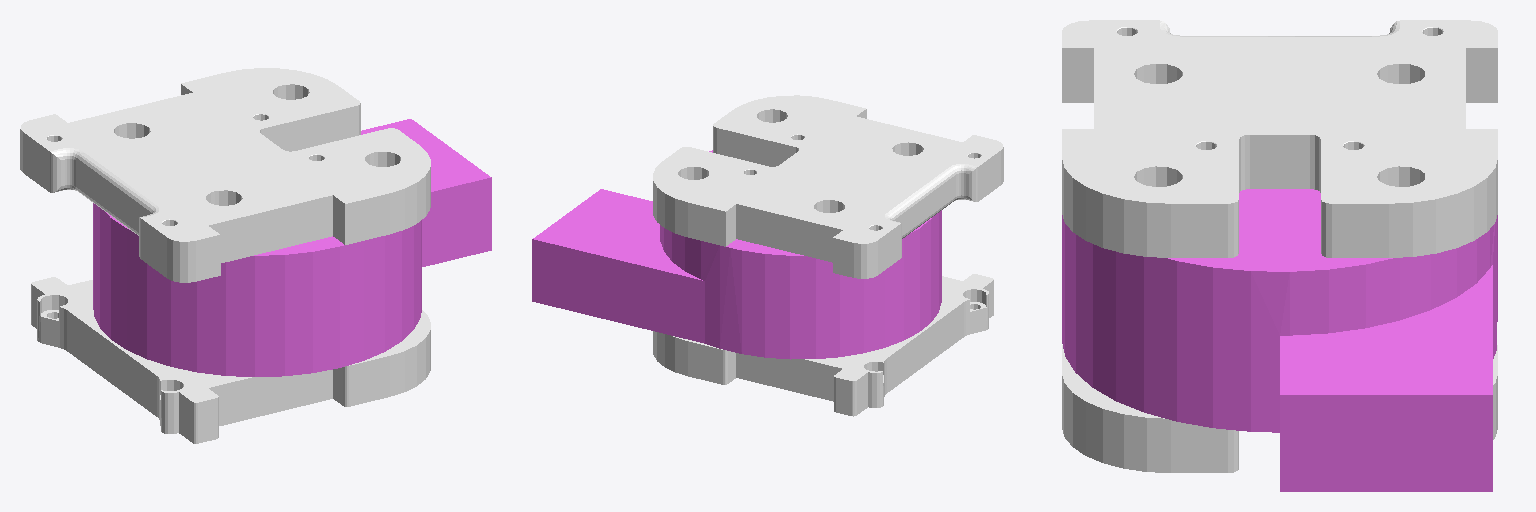
The robot description file, URDF, robot "FT_Electric_left":
<?xml version="1.0" ?>
<robot
    name="FT_Electric_left">
  <link
      name="FT_bottom_plate_left">
    <inertial>
      <origin
          xyz="0.034783 -1.3323E-15 0.0055211"
          rpy="0 0 0" />
      <mass
          value="0.051726" />
      <inertia
          ixx="2.5588E-05"
          ixy="2.7505E-21"
          ixz="2.4673E-08"
          iyy="2.3459E-05"
          iyz="4.1597E-22"
          izz="4.7997E-05" />
    </inertial>
    <visual>
      <origin
          xyz="0 0 0"
          rpy="0 0 0" />
      <geometry>
        <mesh
            filename="package://birl_baxter_description/urdf/ft/meshes/FT_bottom_plate.STL" />
      </geometry>
      <material
          name="">
        <color
            rgba="1 1 1 1" />
      </material>
    </visual>
    <collision>
      <origin
          xyz="0 0 0"
          rpy="0 0 0" />
      <geometry>
        <mesh
            filename="package://birl_baxter_description/urdf/ft/meshes/FT_bottom_plate.STL" />
      </geometry>
    </collision>
  </link>
  <link
      name="FT_left">
    <inertial>
      <origin
          xyz="0.003889 0.0057216 0.014109"
          rpy="0 0 0" />
      <mass
          value="1.4264" />
      <inertia
          ixx="0.0010241"
          ixy="0.00016944"
          ixz="2.4095E-05"
          iyy="0.00071846"
          iyz="5.2318E-05"
          izz="0.0014993" />
    </inertial>
    <visual>
      <origin
          xyz="0 0 0"
          rpy="0 0 0" />
      <geometry>
        <mesh
            filename="package://birl_baxter_description/urdf/ft/meshes/FT.STL" />
      </geometry>
      <material
          name="">
        <color
            rgba="1 0.5 1 1" />
      </material>
    </visual>
    <collision>
      <origin
          xyz="0 0 0"
          rpy="0 0 0" />
      <geometry>
        <mesh
            filename="package://birl_baxter_description/urdf/ft/meshes/FT.STL" />
      </geometry>
    </collision>
  </link>
  <joint
      name="FT_Bottom_Joint_left"
      type="fixed">
    <origin
        xyz="0.041625 -0.00085087 0.040469"
        rpy="-3.1416 6.2028E-17 1.5708" />
    <parent
        link="FT_bottom_plate_left" />
    <child
        link="FT_left" />
    <axis
        xyz="0 0 0" />
  </joint>
  <link
      name="FT_Top_Plate_left">
    <inertial>
      <origin
          xyz="-0.0067444 -3.2055E-10 0.0054943"
          rpy="0 0 0" />
      <mass
          value="0.053196" />
      <inertia
          ixx="2.7087E-05"
          ixy="5.8629E-13"
          ixz="-2.2091E-08"
          iyy="2.5333E-05"
          iyz="4.732E-16"
          izz="5.1339E-05" />
    </inertial>
    <visual>
      <origin
          xyz="0 0 0"
          rpy="0 0 0" />
      <geometry>
        <mesh
            filename="package://birl_baxter_description/urdf/ft/meshes/FT_Top_Plate.STL" />
      </geometry>
      <material
          name="">
        <color
            rgba="1 1 1 1" />
      </material>
    </visual>
    <collision>
      <origin
          xyz="0 0 0"
          rpy="0 0 0" />
      <geometry>
        <mesh
            filename="package://birl_baxter_description/urdf/ft/meshes/FT_Top_Plate.STL" />
      </geometry>
    </collision>
  </link>
  <joint
      name="FT_Top_Joint_left"
      type="revolute">
    <origin
        xyz="0.00085087 -0.00087515 -0.0030305"
        rpy="3.1416 5.017E-16 1.5708" />
    <parent
        link="FT_left" />
    <child
        link="FT_Top_Plate_left" />
    <axis
        xyz = "0 0 1"/>
    <limit
        lower = "0"
        upper = "0"
        velocity = "0.2"
        effort = "0.2"/>
  </joint>
  <gazebo reference="FT_left">
    <material>Gazebo/Skull</material>
  </gazebo>
  
</robot>

--- What the picture shows (computed from the rendered views, not written in the file) ---
The picture shows the robot from 3 angles, left to right: view 1: azimuth 30°, elevation 25°; view 2: azimuth 150°, elevation 25°; view 3: azimuth 270°, elevation 25°; orthographic projection.
Robot: FT_Electric_left — 3 links, 2 joints (1 revolute, 1 fixed); root link FT_bottom_plate_left; default pose: every joint at zero.
Visible links, largest first — view 1: FT_Top_Plate_left, FT_left, FT_bottom_plate_left; view 2: FT_left, FT_Top_Plate_left, FT_bottom_plate_left; view 3: FT_left, FT_Top_Plate_left, FT_bottom_plate_left.
Link boxes in pixels (box(x1,y1,x2,y2)): FT_Top_Plate_left: box(20, 68, 430, 282); FT_left: box(93, 119, 491, 376); FT_bottom_plate_left: box(31, 277, 430, 443); FT_left: box(532, 150, 941, 359); FT_Top_Plate_left: box(653, 95, 1003, 278); FT_bottom_plate_left: box(653, 274, 993, 416); FT_left: box(1062, 189, 1497, 491); FT_Top_Plate_left: box(1062, 20, 1497, 257); FT_bottom_plate_left: box(1062, 345, 1497, 472).
Bounding box of the posed robot: 0.111 × 0.08 × 0.0545 m (x, y, z).
3 mesh visuals loaded from 3 distinct referenced files (3 binary STL).
